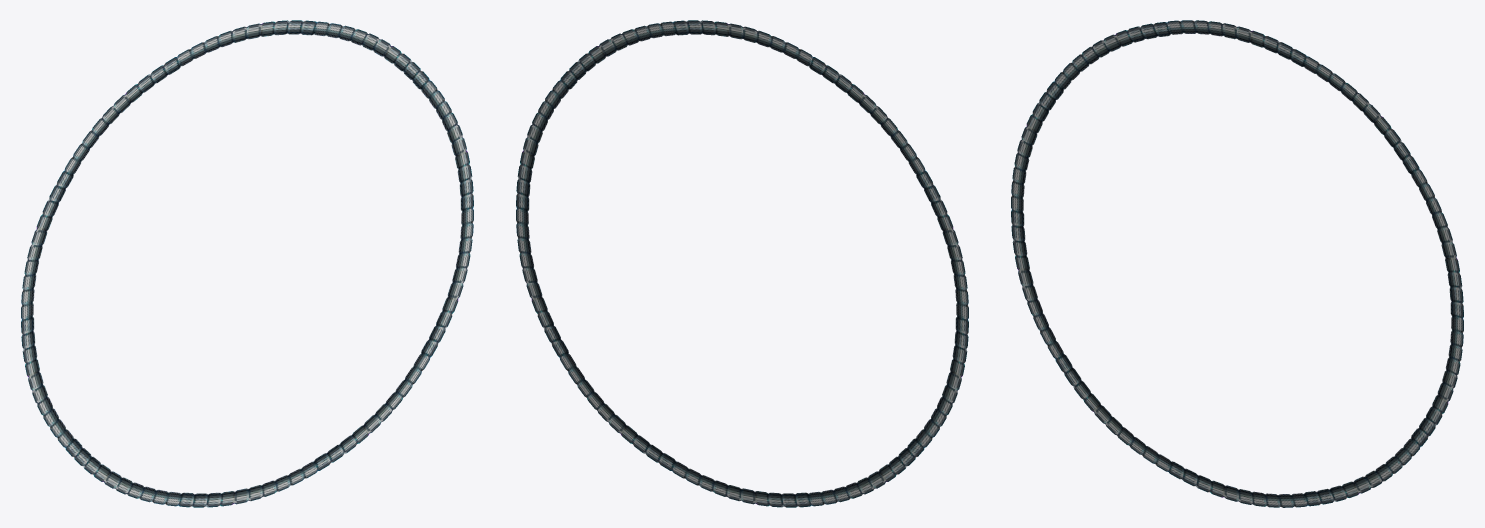
The model's file is Centipede_EnemyRing.fbx.
The picture shows the model from 3 angles, left to right: view 1: azimuth 30°, elevation 25°; view 2: azimuth 150°, elevation 25°; view 3: azimuth 330°, elevation 25°; orthographic projection.
Parts seen in each view (by area): view 1: pPipe1, pPipe4, pPipe5, pPipe9, pPipe10, pPipe6, pPipe7, pPipe8, pPipe3, pPipe2; view 2: pPipe1, pPipe4, pPipe5, pPipe9, pPipe10, pPipe6, pPipe7, pPipe8, pPipe2, pPipe3; view 3: pPipe1, pPipe8, pPipe7, pPipe6, pPipe4, pPipe3, pPipe2, pPipe9, pPipe10, pPipe5.
Boxes of the visible parts, x1=… form: pPipe1: x1=177, y1=20, x2=316, y2=66; pPipe4: x1=421, y1=208, x2=473, y2=357; pPipe5: x1=314, y1=353, x2=429, y2=470; pPipe9: x1=21, y1=170, x2=73, y2=319; pPipe10: x1=64, y1=57, x2=180, y2=174; pPipe6: x1=178, y1=461, x2=317, y2=507; pPipe7: x1=65, y1=438, x2=181, y2=506; pPipe8: x1=21, y1=317, x2=73, y2=447; pPipe3: x1=421, y1=80, x2=473, y2=210; pPipe2: x1=314, y1=21, x2=429, y2=89; pPipe1: x1=673, y1=20, x2=812, y2=66; pPipe4: x1=516, y1=208, x2=568, y2=357; pPipe5: x1=560, y1=353, x2=675, y2=470; pPipe9: x1=916, y1=170, x2=968, y2=319; pPipe10: x1=809, y1=57, x2=925, y2=174; pPipe6: x1=672, y1=461, x2=811, y2=507; pPipe7: x1=808, y1=438, x2=924, y2=506; pPipe8: x1=916, y1=317, x2=968, y2=447; pPipe2: x1=560, y1=21, x2=675, y2=89; pPipe3: x1=516, y1=80, x2=568, y2=210; pPipe1: x1=1167, y1=20, x2=1306, y2=66; pPipe8: x1=1011, y1=210, x2=1063, y2=358; pPipe7: x1=1055, y1=354, x2=1171, y2=471; pPipe6: x1=1168, y1=461, x2=1307, y2=507; pPipe4: x1=1411, y1=316, x2=1463, y2=446; pPipe3: x1=1411, y1=169, x2=1463, y2=318; pPipe2: x1=1304, y1=56, x2=1419, y2=173; pPipe9: x1=1011, y1=81, x2=1063, y2=212; pPipe10: x1=1054, y1=22, x2=1170, y2=89; pPipe5: x1=1304, y1=438, x2=1420, y2=506.
Size of the model in its own units: 31 by 31 by 9.54e-07.
1 material, 1 textured.
